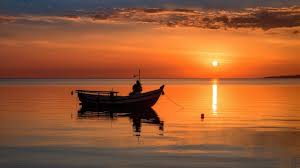boat: (74, 79, 166, 115)
